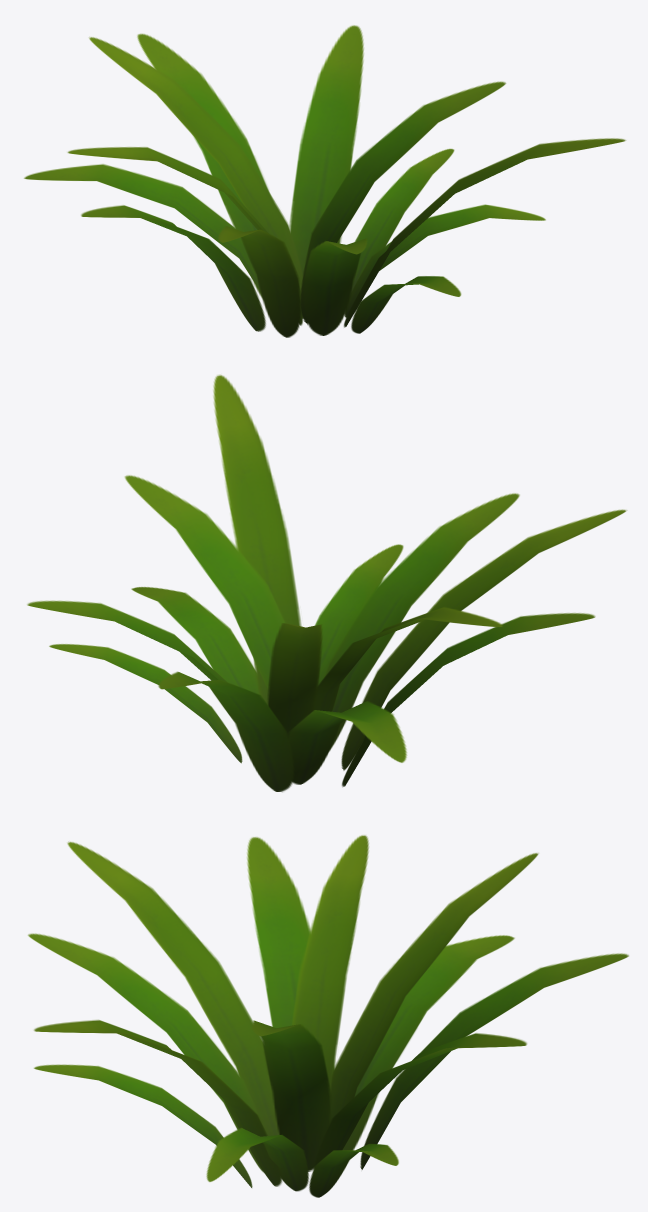
Rendered from plant.glb.
3 renders of one model, top to bottom at view 1: azimuth 30°, elevation 25°; view 2: azimuth 150°, elevation 25°; view 3: azimuth 270°, elevation 25°, orthographic. The views are drawn at different scales.
Parts seen in each view (by area): view 1: plant; view 2: plant; view 3: plant.
Boxes of the visible parts, x1,y1,x2,y2 form: plant: (24,25,625,337); plant: (27,375,626,791); plant: (28,835,628,1197).
Bounding box in the file's own units: 0.4198 × 0.2084 × 0.4357.
Materials: 1 (1 with a texture image).
